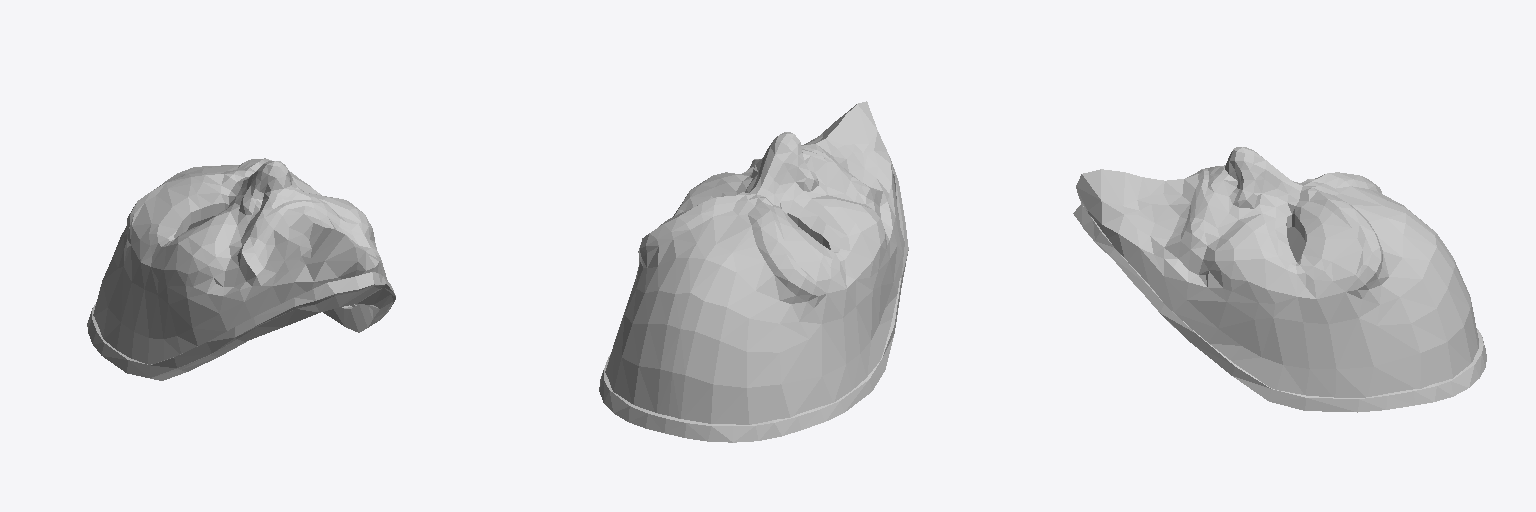
Rendered from Anonymous.obj.
3 views of the same model, side by side, from view 1: azimuth 30°, elevation 25°; view 2: azimuth 150°, elevation 25°; view 3: azimuth 270°, elevation 25° (orthographic).
Visible parts, largest first — view 1: model-0; view 2: model-0; view 3: model-0.
Boxes of the visible parts, x1,y1,x2,y2 form: model-0: [87, 158, 395, 380]; model-0: [599, 101, 908, 442]; model-0: [1073, 147, 1486, 412].
Bounding box in the file's own units: 19.37 × 17.21 × 29.76.